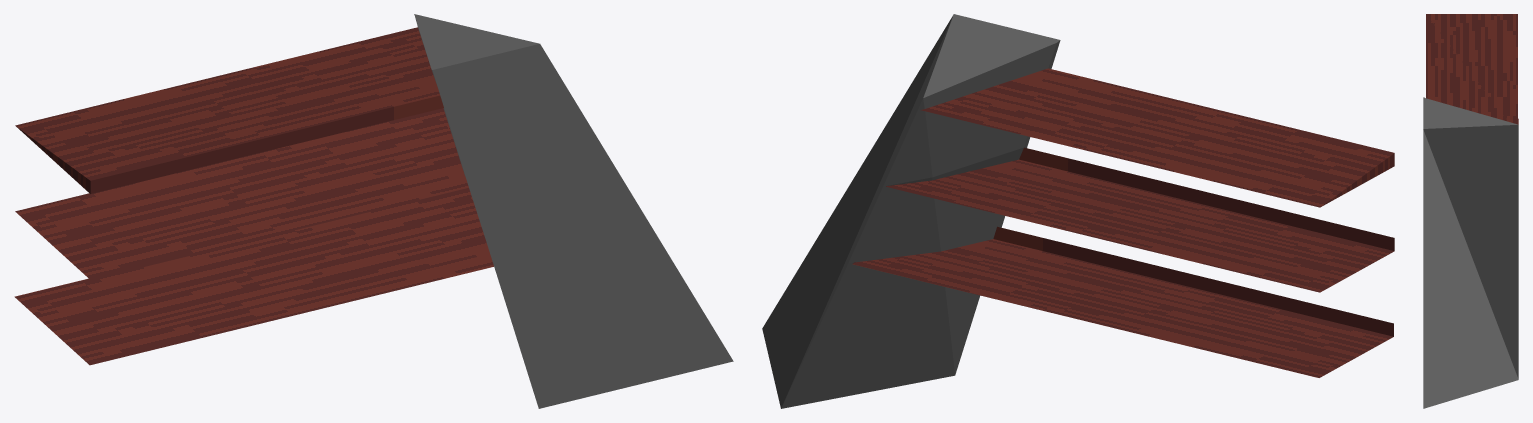
3 renders of one model, left to right at view 1: azimuth 30°, elevation 25°; view 2: azimuth 150°, elevation 25°; view 3: azimuth 270°, elevation 25°, orthographic. The views are drawn at different scales.
Visible parts, largest first — view 1: ss3d_12_shelf; view 2: ss3d_12_shelf; view 3: ss3d_12_shelf.
Boxes of the visible parts, x1,y1,x2,y2 form: ss3d_12_shelf: (14, 14, 733, 408); ss3d_12_shelf: (762, 14, 1394, 408); ss3d_12_shelf: (1423, 14, 1518, 408).
Bounding box in the file's own units: 1.76 × 0.9562 × 0.3727.
Materials: 1 (1 with a texture image).
